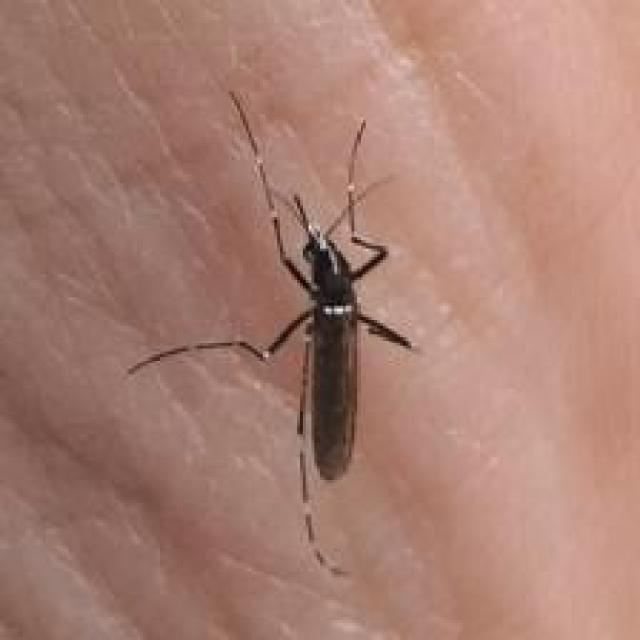Aedes albopictus: (127, 87, 416, 576)
